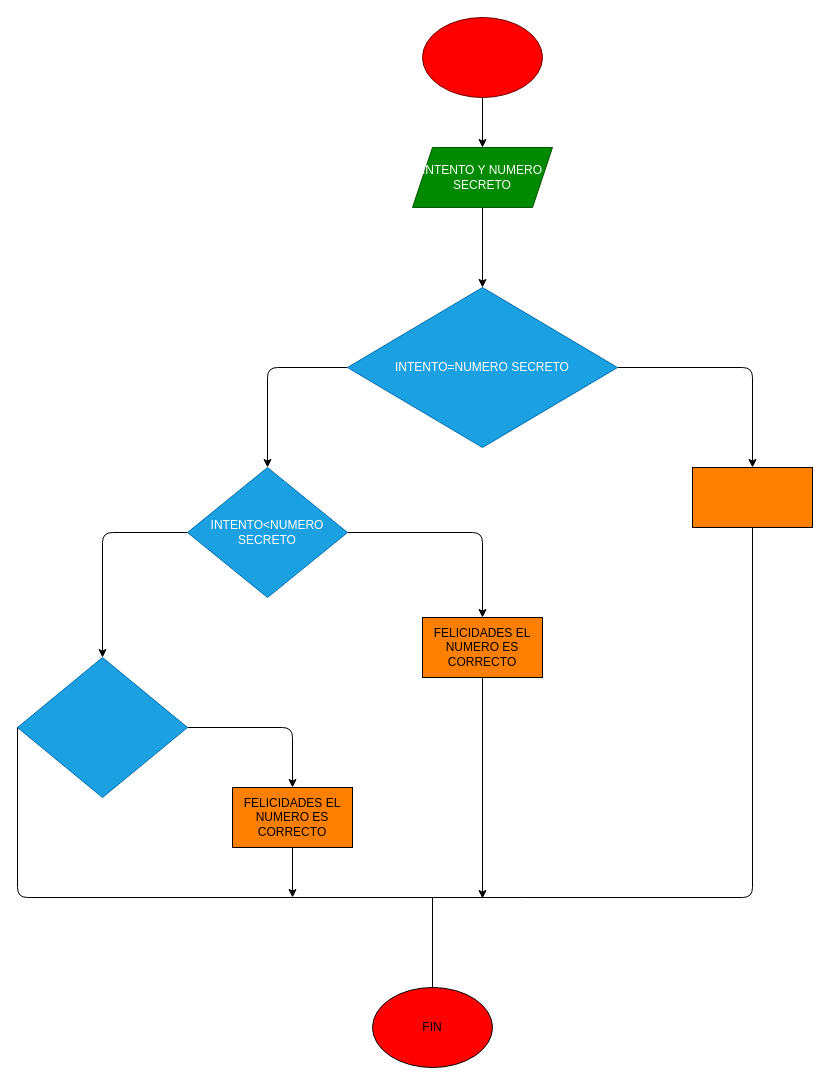
The diagram is 830 pixels wide and 1085 high, and some of its shapes have lost their labels. Each missing label, with the centre of its shape:
"FELICIDADES ADIVINO SU NUMERO" goes at point 752,497.
"INICIO" goes at point 482,57.
"INTENTO>NUMERO SECRETO" goes at point 102,727.
